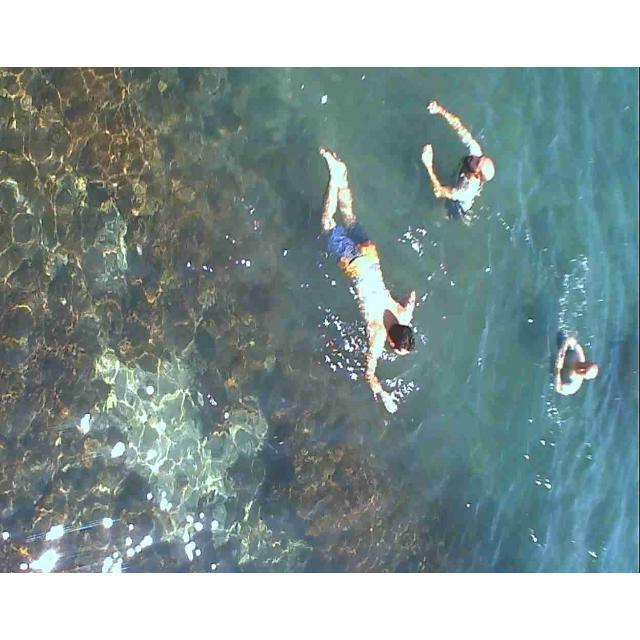human: (307, 140, 437, 411), (422, 76, 487, 229), (535, 307, 616, 421)
